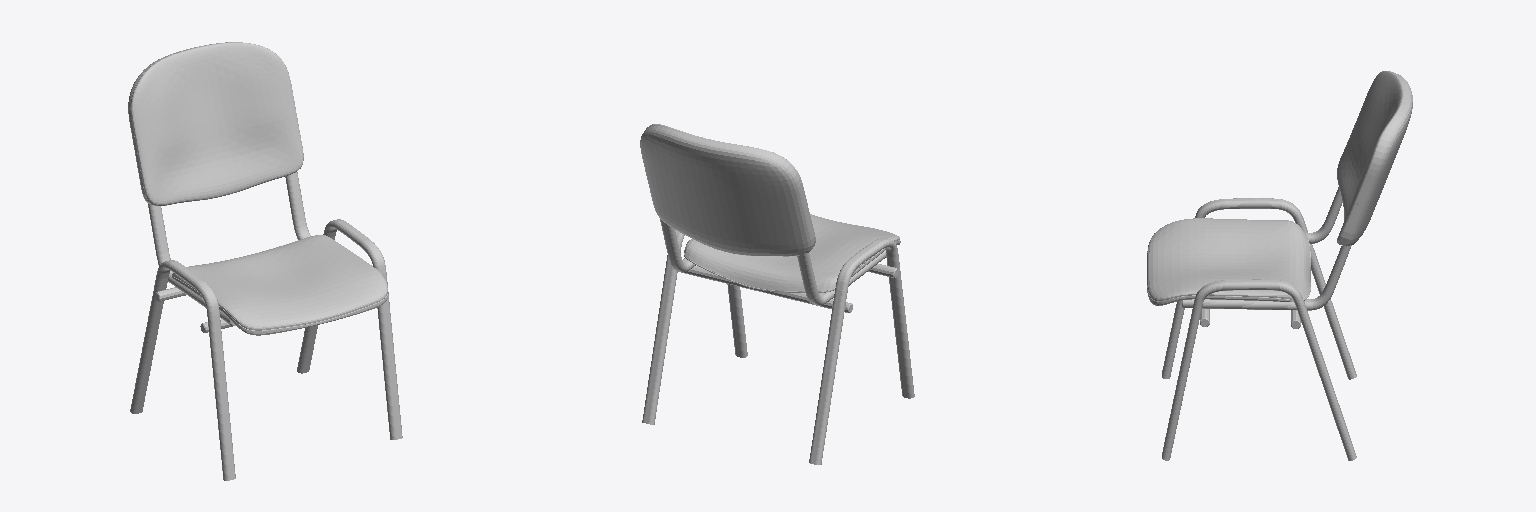
Rendered from t_dchair_obj.obj.
3 renders of one model, left to right at view 1: azimuth 30°, elevation 25°; view 2: azimuth 150°, elevation 25°; view 3: azimuth 270°, elevation 25°, orthographic.
Parts seen in each view (by area): view 1: Chair BackCushion, Chair SeatCushion, Chair RightLeg, Chair LeftLeg, Chair Right, Chair Left, Chair SeatPlastic; view 2: Chair BackPlastic, Chair SeatCushion, Chair RightLeg, Chair LeftLeg, Chair Right, Chair Back, Chair Left; view 3: Chair SeatCushion, Chair BackCushion, Chair LeftLeg, Chair RightLeg, Chair BackPlastic, Chair Left, Chair Right, Chair SeatPlastic.
Part boxes in pixels (x1,y1,x2,y2): Chair BackCushion: (131, 42, 303, 205); Chair SeatCushion: (172, 235, 387, 330); Chair RightLeg: (130, 260, 235, 480); Chair LeftLeg: (297, 219, 402, 439); Chair Right: (148, 204, 235, 325); Chair Left: (285, 172, 310, 239); Chair SeatPlastic: (172, 276, 388, 335); Chair BackPlastic: (640, 126, 814, 256); Chair SeatCushion: (684, 214, 899, 291); Chair RightLeg: (809, 238, 914, 464); Chair LeftLeg: (642, 230, 747, 424); Chair Right: (797, 250, 885, 305); Chair Back: (678, 266, 852, 312); Chair Left: (660, 219, 695, 271); Chair SeatCushion: (1147, 218, 1310, 300); Chair BackCushion: (1337, 71, 1405, 244); Chair LeftLeg: (1162, 279, 1356, 460); Chair RightLeg: (1162, 198, 1356, 379); Chair BackPlastic: (1341, 72, 1412, 246); Chair Left: (1182, 245, 1351, 310); Chair Right: (1306, 187, 1342, 243); Chair SeatPlastic: (1147, 239, 1310, 305).
Size of the model in its own units: 48 by 81.84 by 60.88.